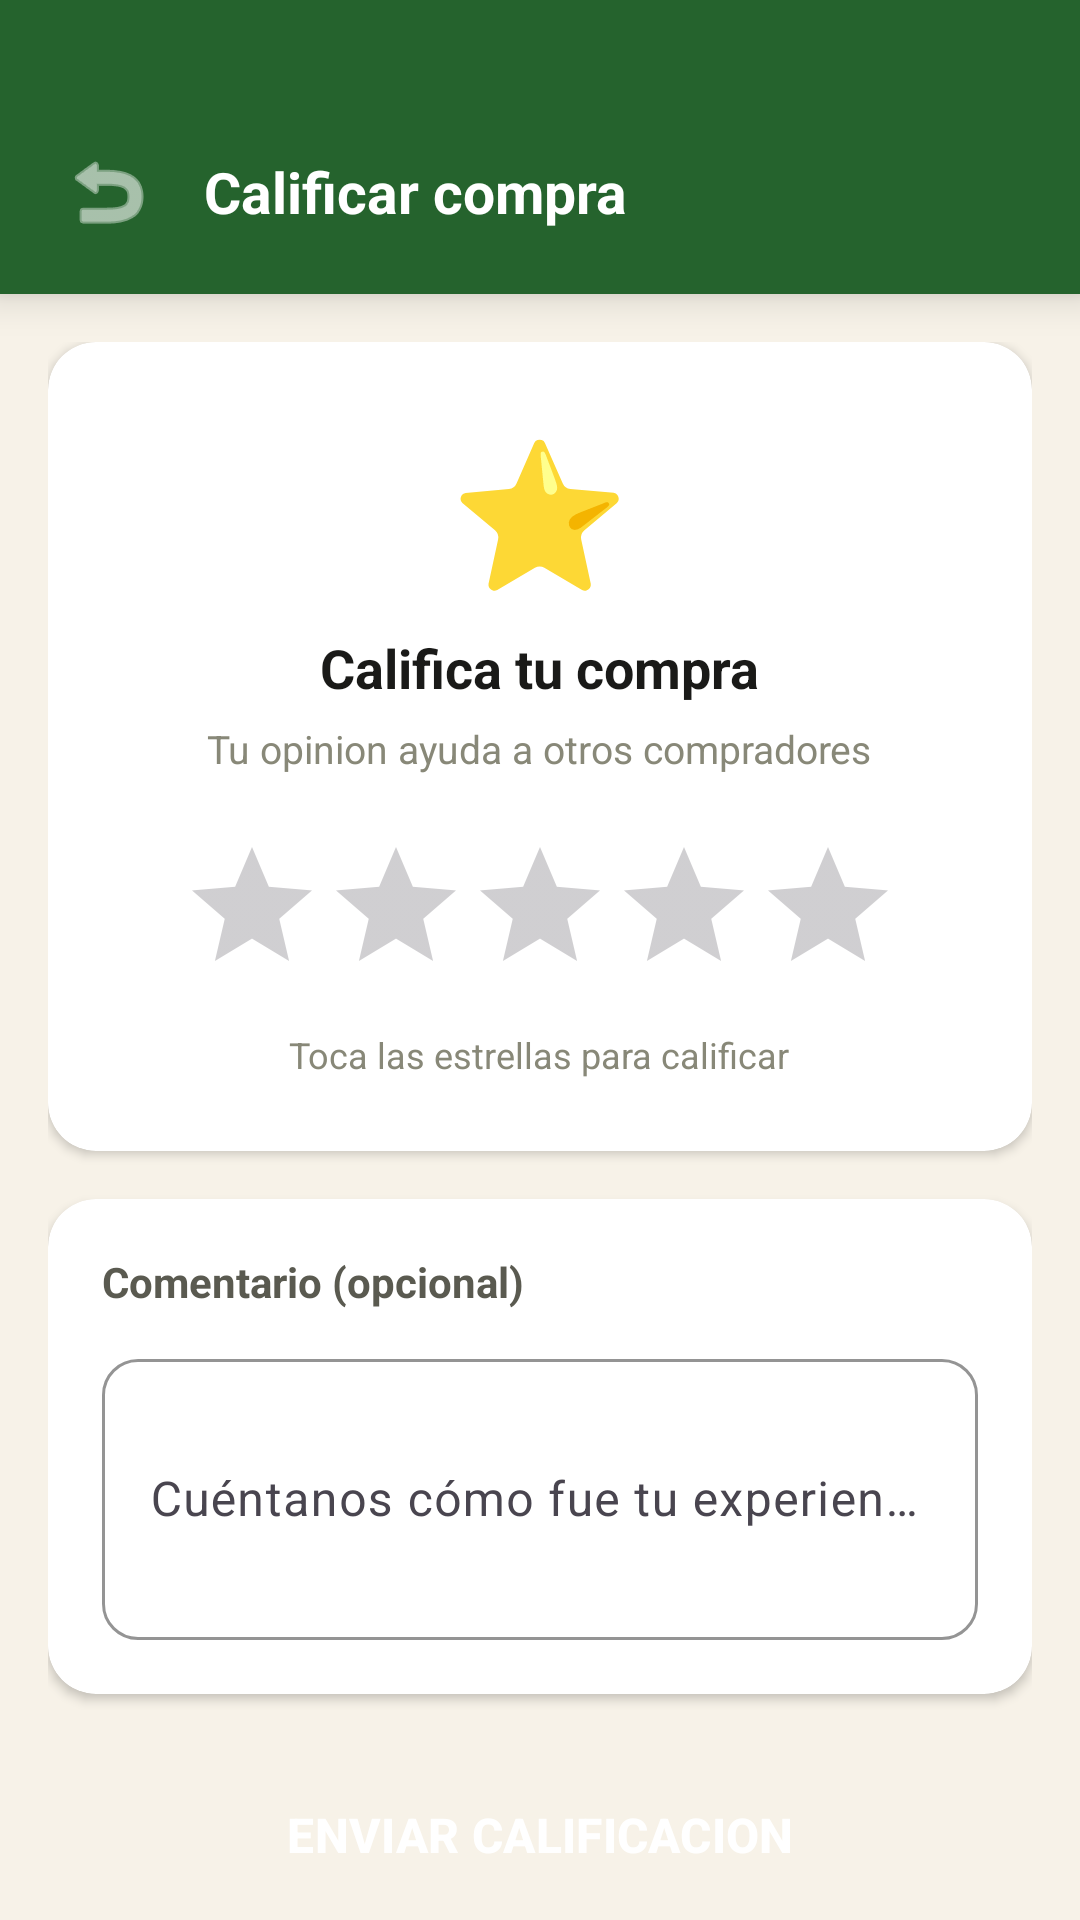

Icon click points for this 1080*1920 phone screenshot, format (x,y):
Volver: (109,192)
